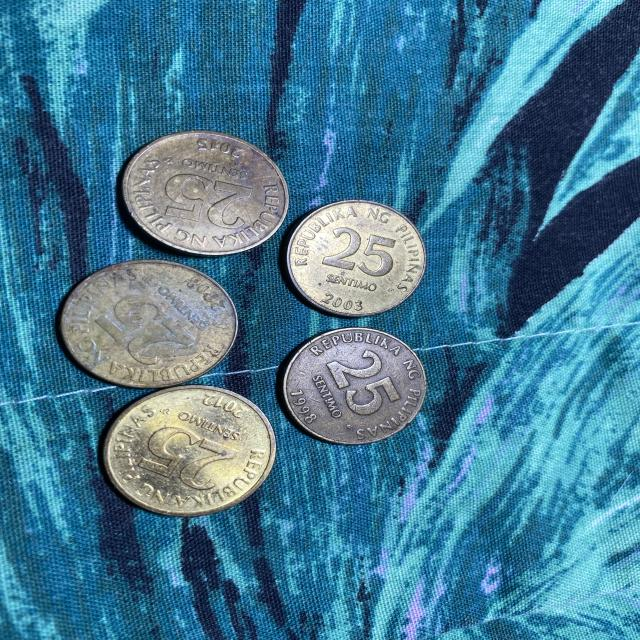25Cent_Old_Front: (101, 296, 193, 372), (135, 424, 246, 486), (160, 170, 251, 228), (329, 346, 405, 415), (327, 226, 397, 278)
